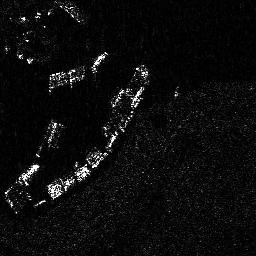ship: (18, 164, 39, 183), (90, 51, 107, 71)
